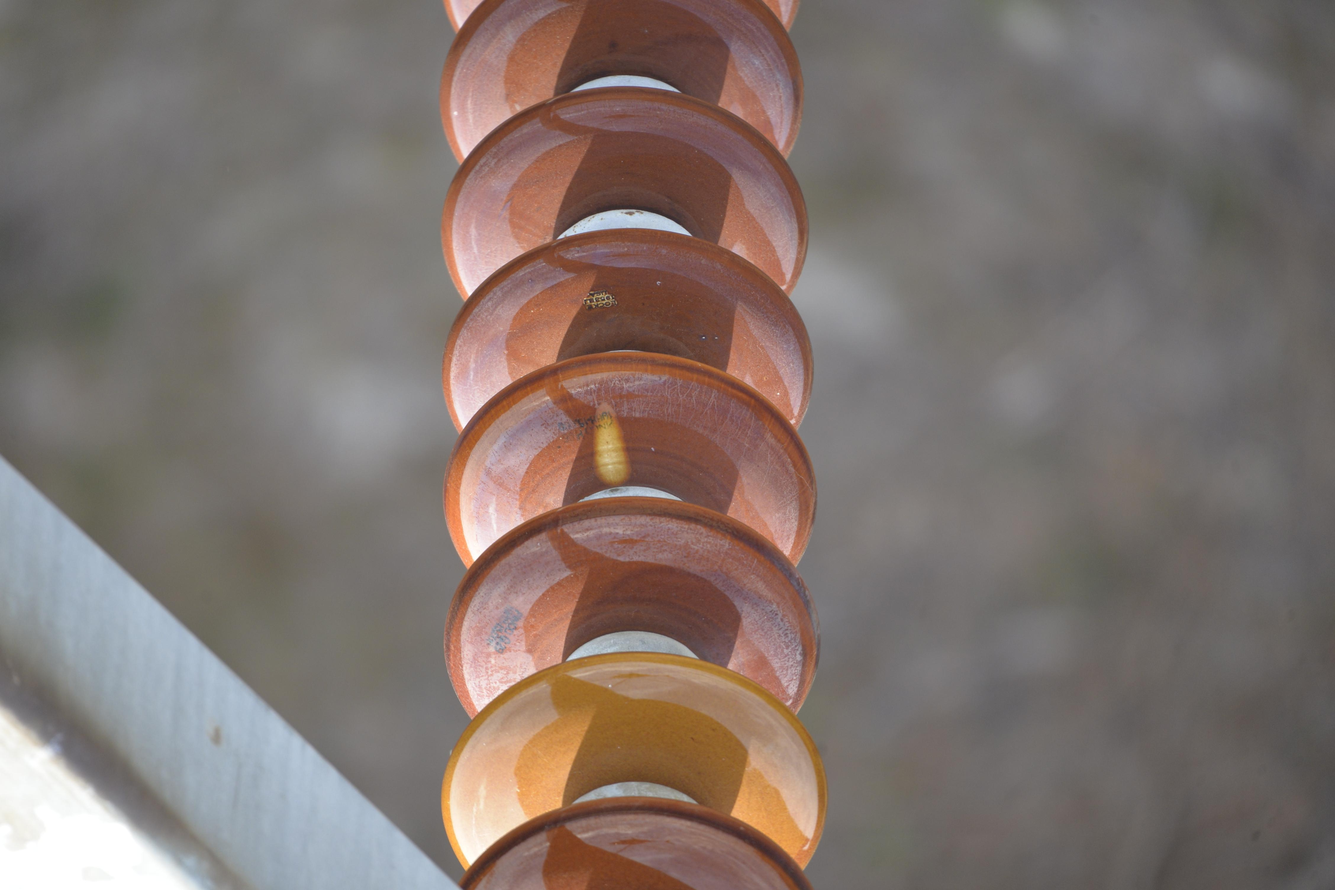Flashover: (584, 399, 633, 495)
insulator: (441, 0, 821, 890)
